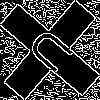U: (25, 25, 83, 83)
